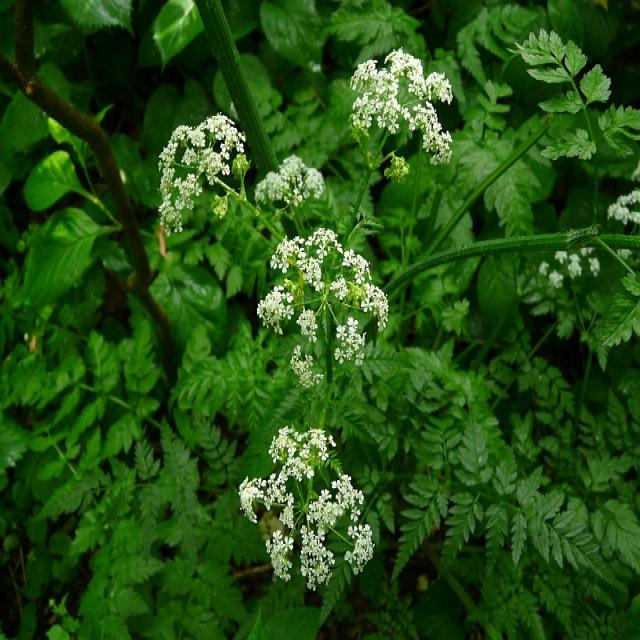Poisonous-Hemlock: (156, 30, 524, 620)
